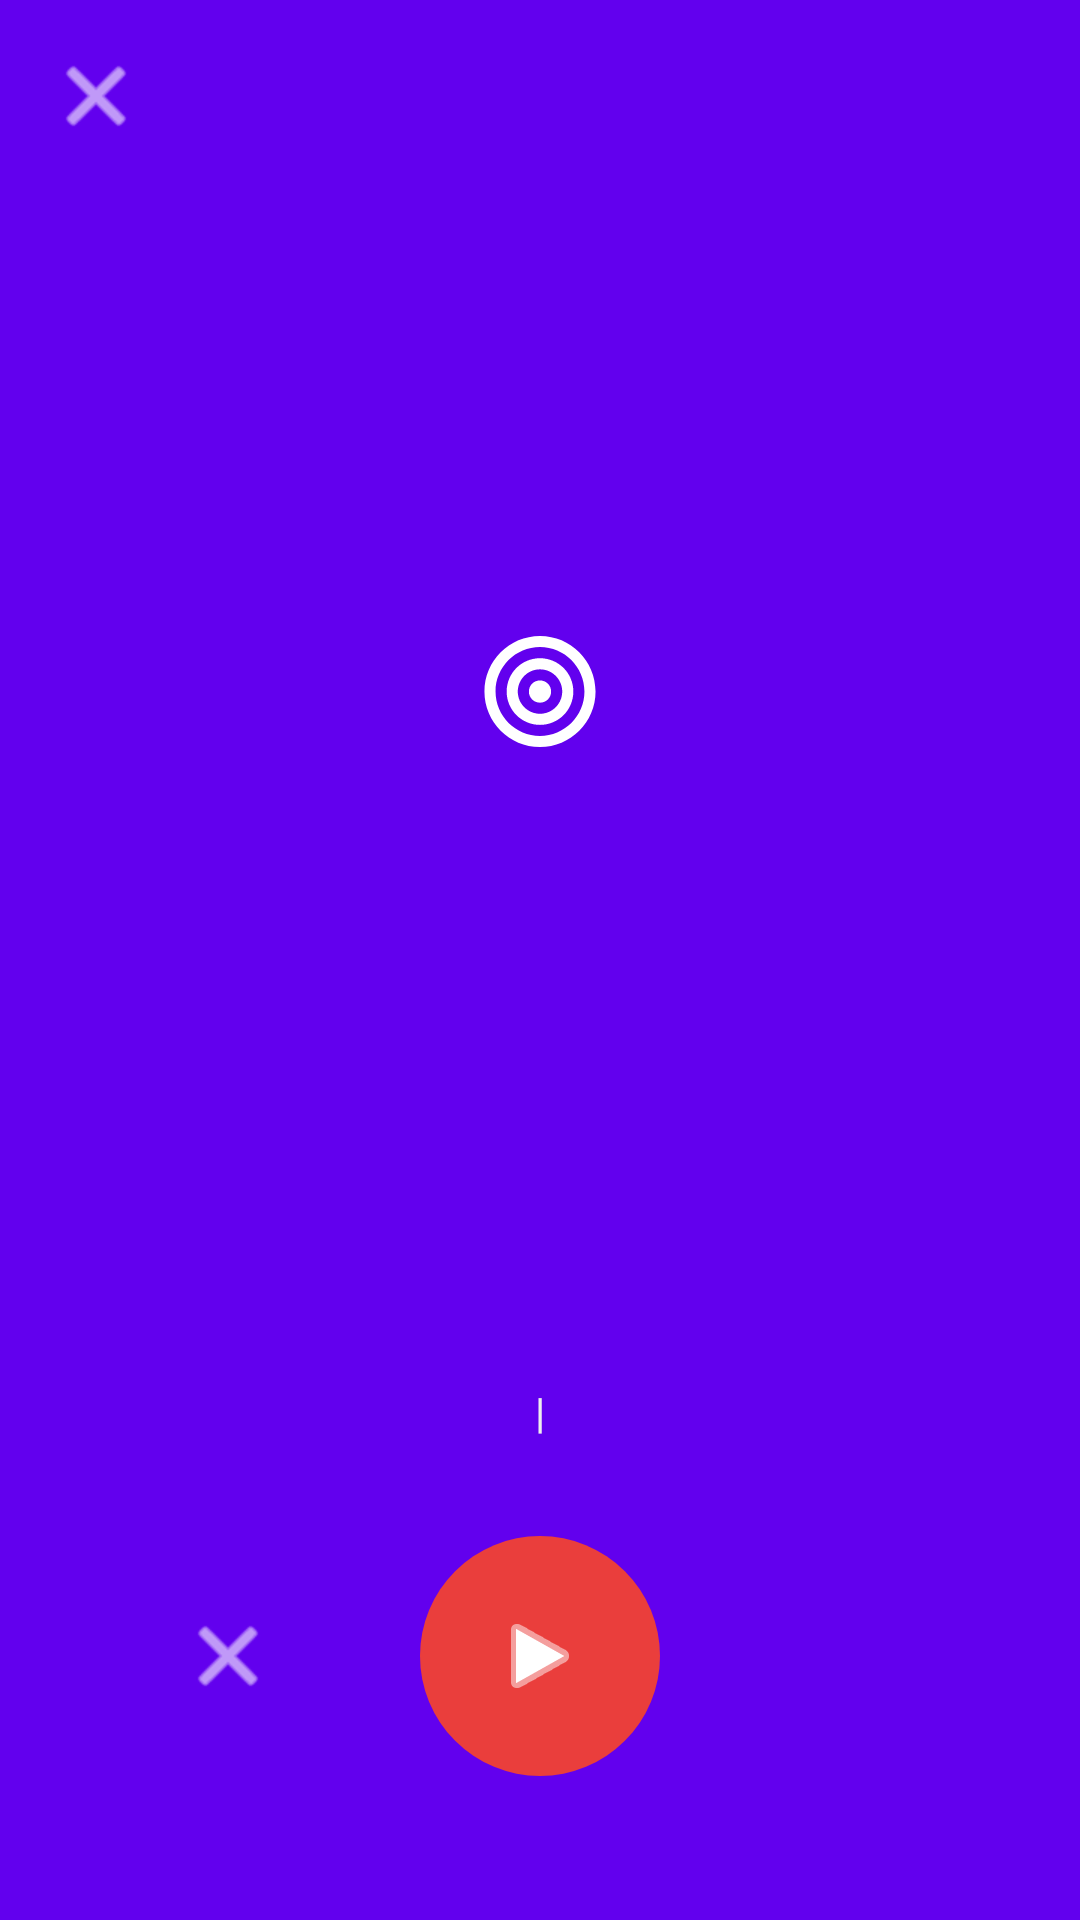

Locate icon controls on the screen. Image size 1080 x 1920, boxes as [x1,y1,x2,y2].
Play or pause: [420,1536,660,1776]
